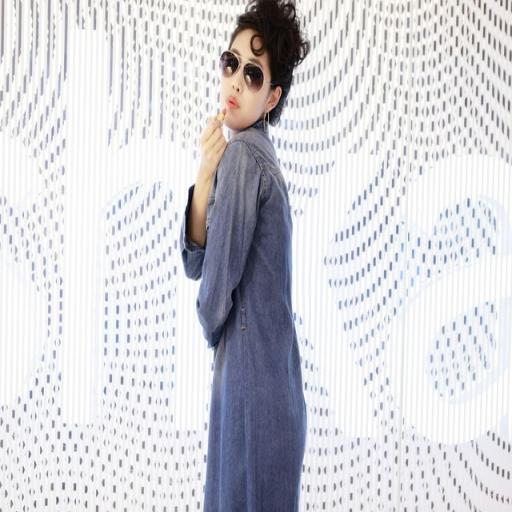lipstick: (218, 108, 226, 121)
